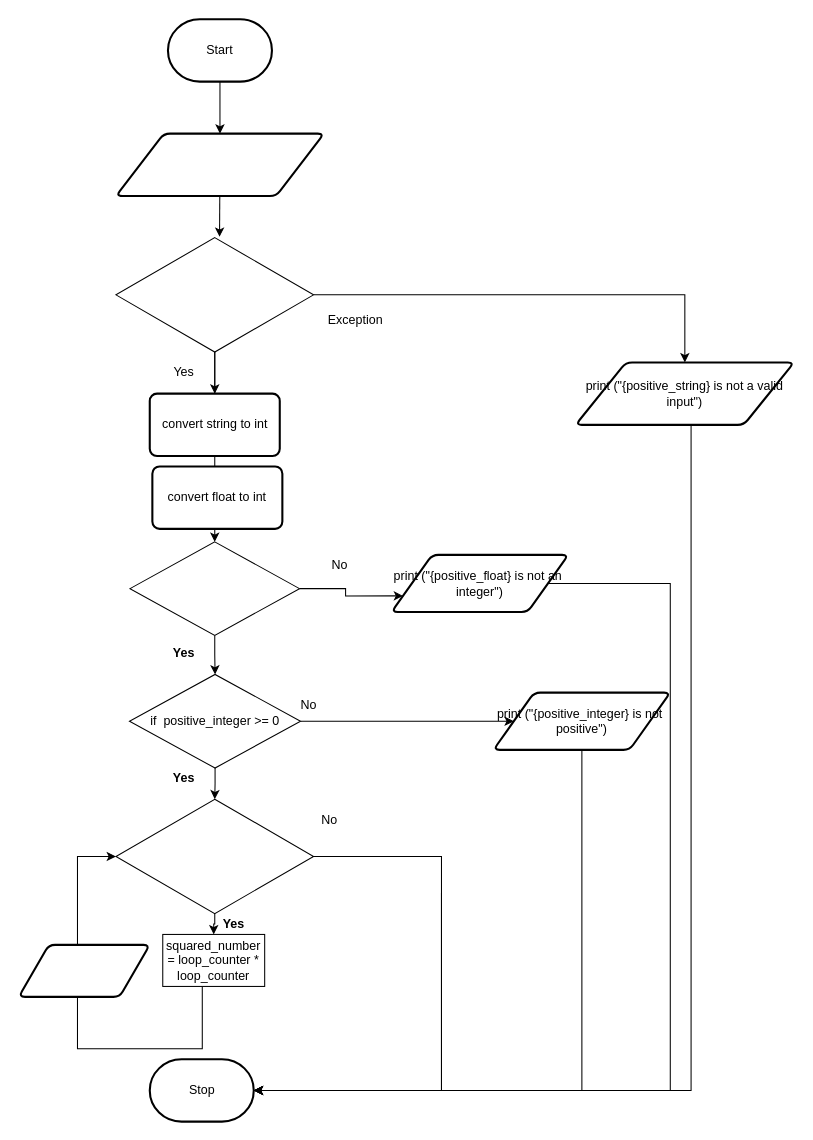
This 813x1140 diagram has some shape labels left out. Each missing label, with the centre of its shape:
for loop_counter in range(positive_integer + 1):: (x=214, y=856)
Get positive_string: (x=219, y=164)
if positive_integer == positive_float: (x=214, y=588)
print("{loop_counter} ² = {squared_number}"): (x=83, y=970)
try: (x=214, y=294)
